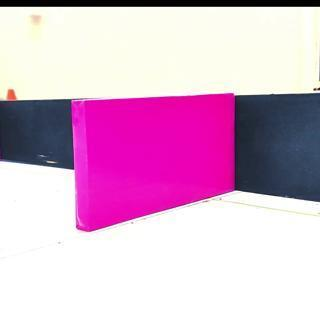xparking: (70, 102, 234, 216)
